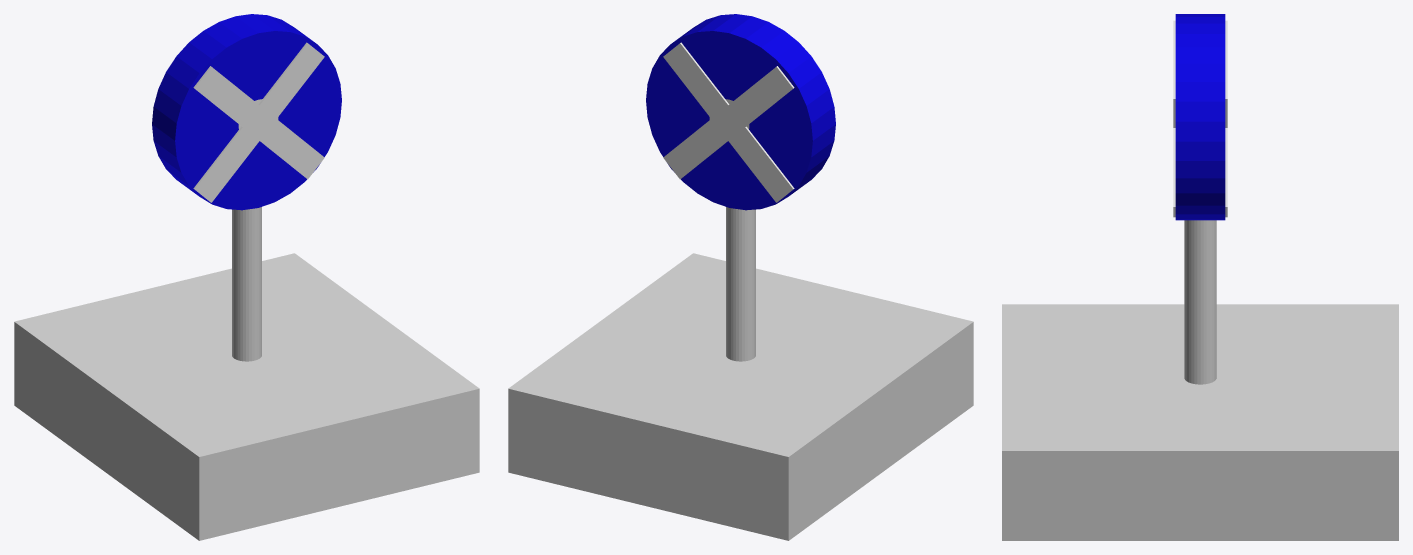
Rendered from WaterBlast.dae.
3 views of the same model, side by side, from view 1: azimuth 30°, elevation 25°; view 2: azimuth 150°, elevation 25°; view 3: azimuth 270°, elevation 25° (orthographic). The views are drawn at different scales.
Visible parts, largest first — view 1: Cube; view 2: Cube; view 3: Cube.
Boxes of the visible parts, x1=… form: Cube: x1=14, y1=14, x2=479, y2=540; Cube: x1=508, y1=14, x2=973, y2=540; Cube: x1=1002, y1=14, x2=1398, y2=540.
Size of the model in its own units: 1.07 by 1.22 by 1.51.
